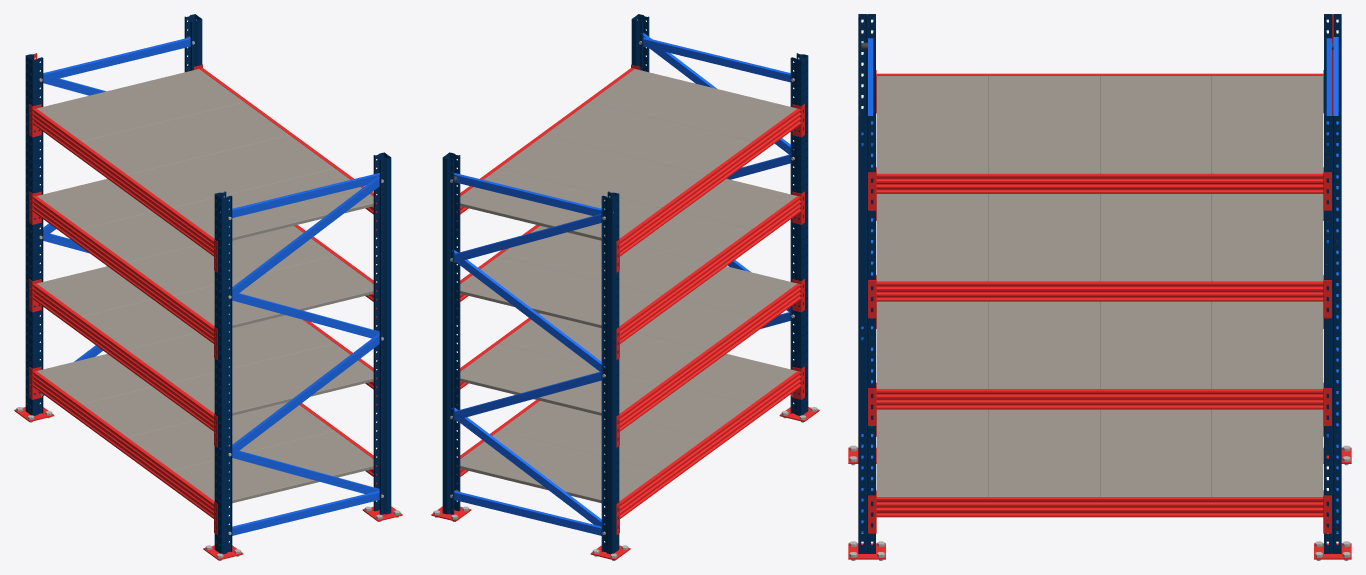
3 views of the same model, side by side, from view 1: azimuth 30°, elevation 25°; view 2: azimuth 150°, elevation 25°; view 3: azimuth 270°, elevation 25° (orthographic). The views are drawn at different scales.
Parts seen in each view (by area): view 1: 隔板1, 隔板3, 隔板2, 隔板4, NONE (×5), Upright-1-solid1, CrossBracing-1-solid1, Upright-3-solid1, StraightBracing-2-solid1, StraightBracing-3-solid1, CrossBracing-7-solid1, Base_Plate-1-solid1; view 2: 隔板1, 隔板4, 隔板2, 隔板3, NONE (×5), Upright-3-solid1, CrossBracing-7-solid1, Upright-1-solid1, StraightBracing-3-solid1, CrossBracing-1-solid1, StraightBracing-2-solid1, Base_Plate-1-solid1; view 3: 隔板1, NONE (×5), 隔板4, 隔板3, 隔板2, Upright-1-solid1, Upright-3-solid1, Base_Plate-1-solid1, CrossBracing-7-solid1.
Boxes of the visible parts, left/top/right/bottom form: 隔板1: left=37, top=69, right=373, bottom=240; 隔板3: left=37, top=266, right=373, bottom=415; 隔板2: left=37, top=178, right=373, bottom=328; 隔板4: left=37, top=354, right=373, bottom=503; NONE (×5): left=29, top=64, right=377, bottom=534; Upright-1-solid1: left=214, top=152, right=391, bottom=554; CrossBracing-1-solid1: left=220, top=175, right=379, bottom=493; Upright-3-solid1: left=25, top=14, right=202, bottom=415; StraightBracing-2-solid1: left=220, top=172, right=381, bottom=535; StraightBracing-3-solid1: left=43, top=37, right=190, bottom=82; CrossBracing-7-solid1: left=31, top=73, right=105, bottom=395; Base_Plate-1-solid1: left=14, top=407, right=402, bottom=560; 隔板1: left=460, top=69, right=796, bottom=240; 隔板4: left=460, top=354, right=796, bottom=503; 隔板2: left=460, top=178, right=796, bottom=328; 隔板3: left=460, top=266, right=796, bottom=415; NONE (×5): left=456, top=64, right=804, bottom=534; Upright-3-solid1: left=442, top=152, right=619, bottom=554; CrossBracing-7-solid1: left=452, top=214, right=605, bottom=526; Upright-1-solid1: left=631, top=14, right=808, bottom=415; StraightBracing-3-solid1: left=452, top=172, right=613, bottom=535; CrossBracing-1-solid1: left=641, top=32, right=794, bottom=328; StraightBracing-2-solid1: left=643, top=37, right=790, bottom=82; Base_Plate-1-solid1: left=431, top=407, right=819, bottom=560; 隔板1: left=876, top=76, right=1323, bottom=173; NONE (×5): left=868, top=70, right=1331, bottom=533; 隔板4: left=876, top=409, right=1323, bottom=496; 隔板3: left=876, top=301, right=1323, bottom=388; 隔板2: left=876, top=194, right=1323, bottom=281; Upright-1-solid1: left=858, top=14, right=875, bottom=553; Upright-3-solid1: left=1324, top=14, right=1341, bottom=553; Base_Plate-1-solid1: left=848, top=447, right=1351, bottom=559; CrossBracing-7-solid1: left=1326, top=37, right=1338, bottom=436.
Bounding box in the file's own units: 52 × 96.88 × 100.
